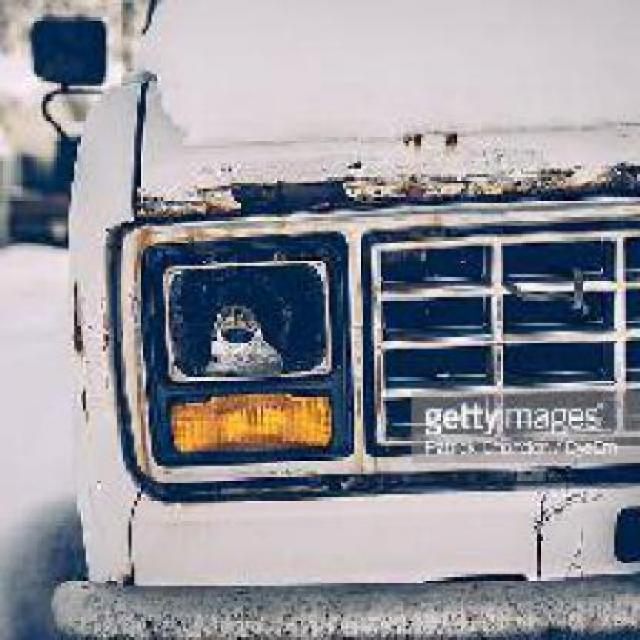damaged-head-light: (153, 246, 370, 484)
dent-or-scratch: (135, 141, 640, 236)
